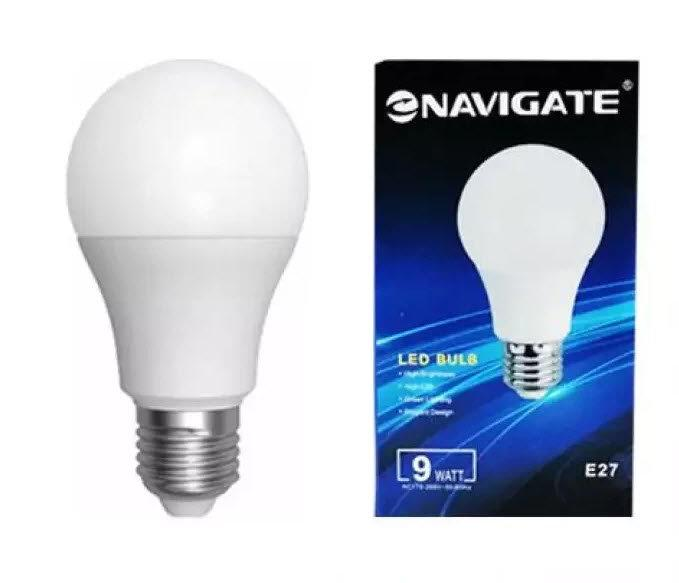Light_bulb: (64, 55, 311, 529), (450, 141, 606, 404)
